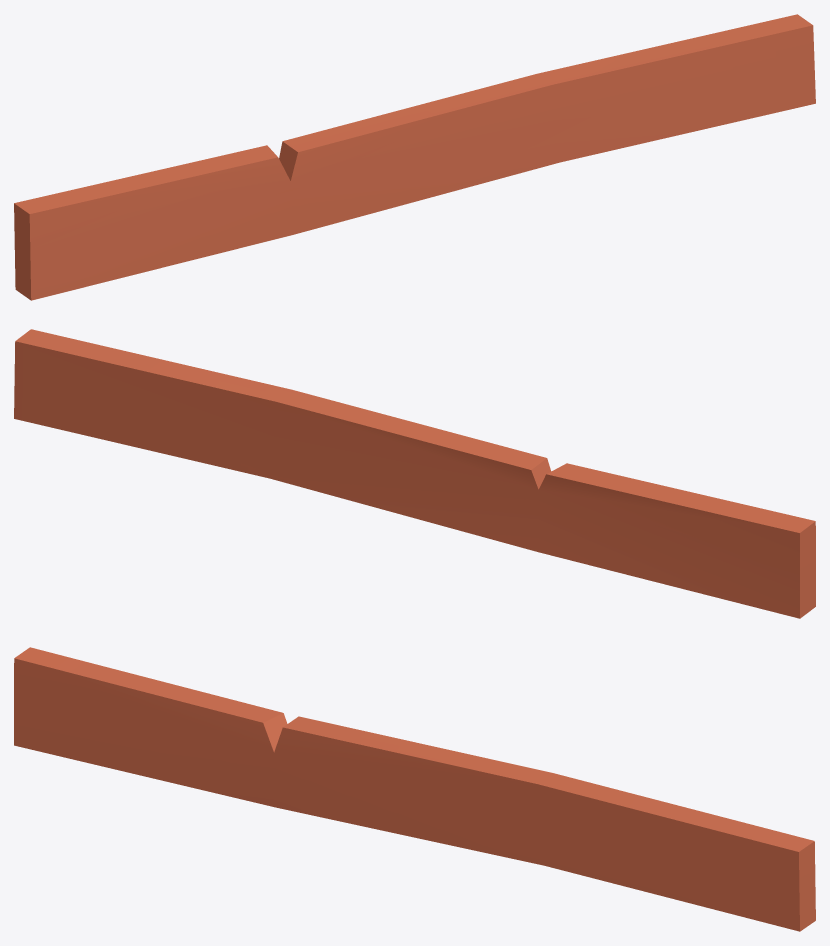
Rendered from fence_wood_001.glb.
The picture shows the model from 3 angles, top to bottom: view 1: azimuth 30°, elevation 25°; view 2: azimuth 150°, elevation 25°; view 3: azimuth 330°, elevation 25°; orthographic projection.
Visible parts, largest first — view 1: fence_wood_001; view 2: fence_wood_001; view 3: fence_wood_001.
Part boxes in pixels (x1,y1,x2,y2): fence_wood_001: [14, 14, 815, 300]; fence_wood_001: [14, 329, 815, 618]; fence_wood_001: [14, 647, 815, 931].
Bounding box in the file's own units: 3.05 × 0.3318 × 0.1209.
Materials: 1 (1 with a texture image).
